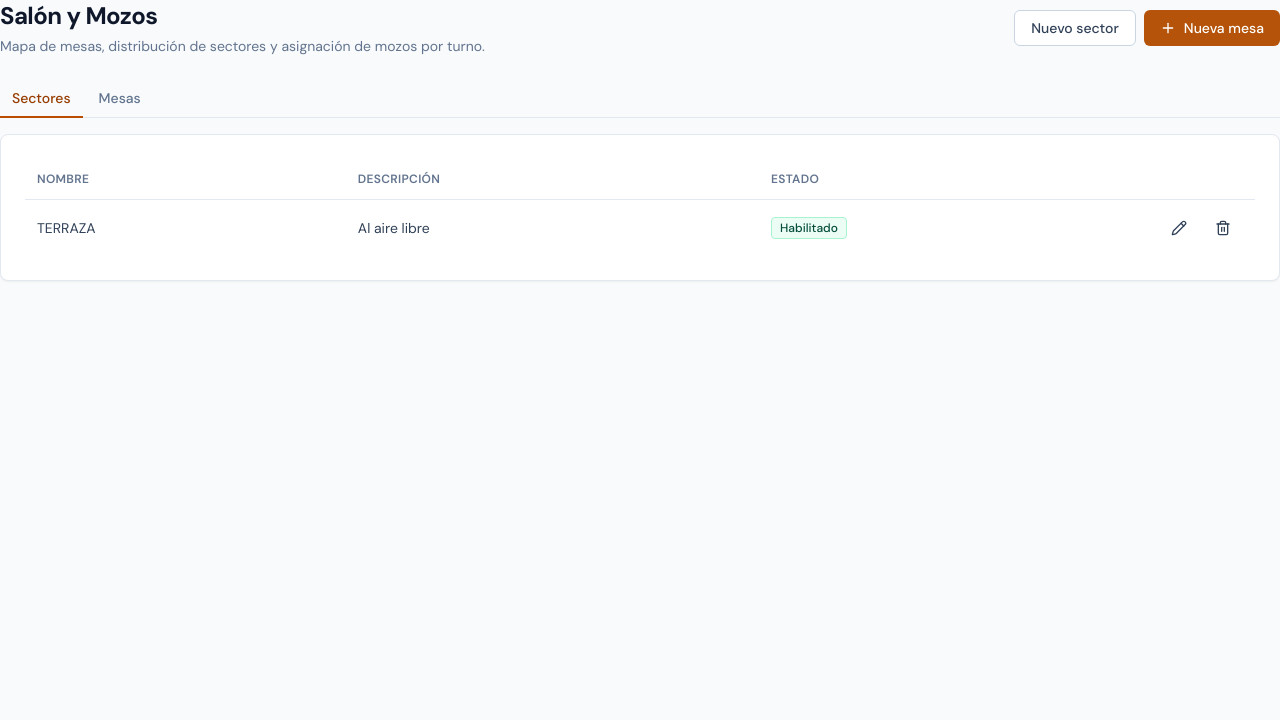
SalonPage: edición de sector › guarda la modificación, cierra el diálogo y recarga la tabla (CA 1 de #34)
Click the button named "Editar «Terraza»" at (1179, 228), box 1159,212 -> 1199,244
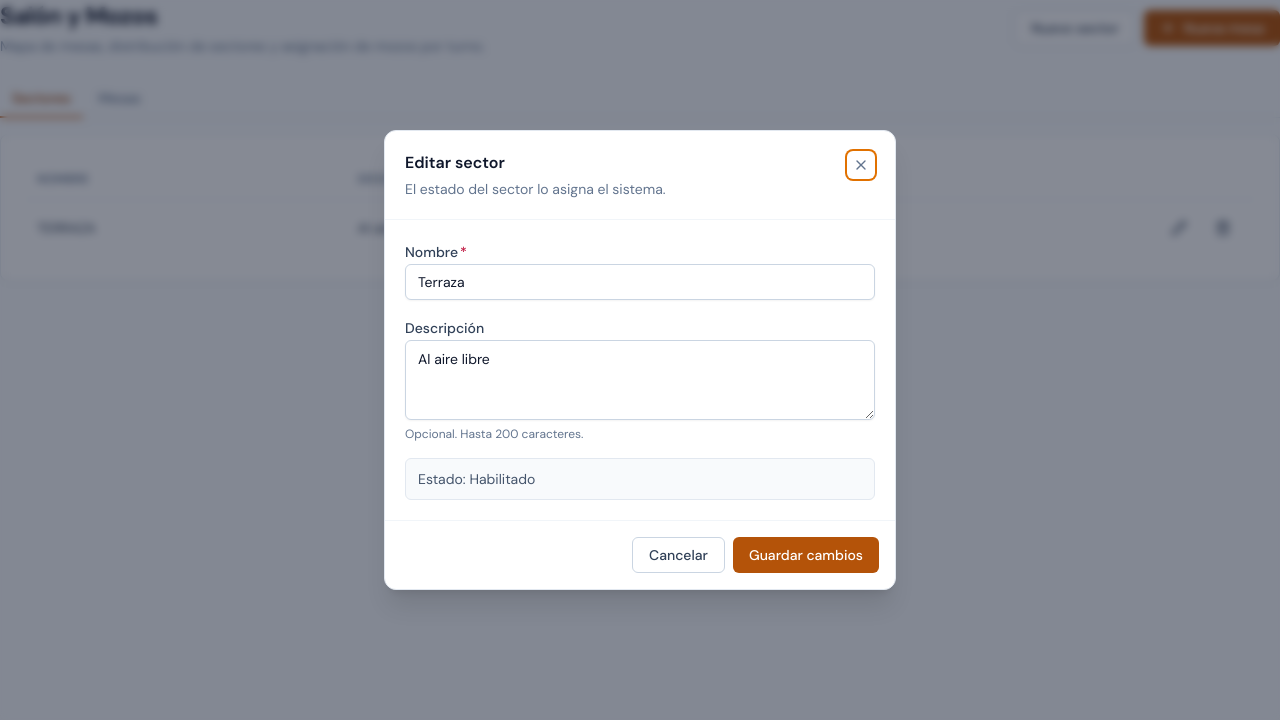
Check: the heading "Editar sector" is shown, box 405,152 -> 505,173
Replace the text in the field labelled "Nombre*" with "Salón central" at (640, 282), box 405,264 -> 875,300
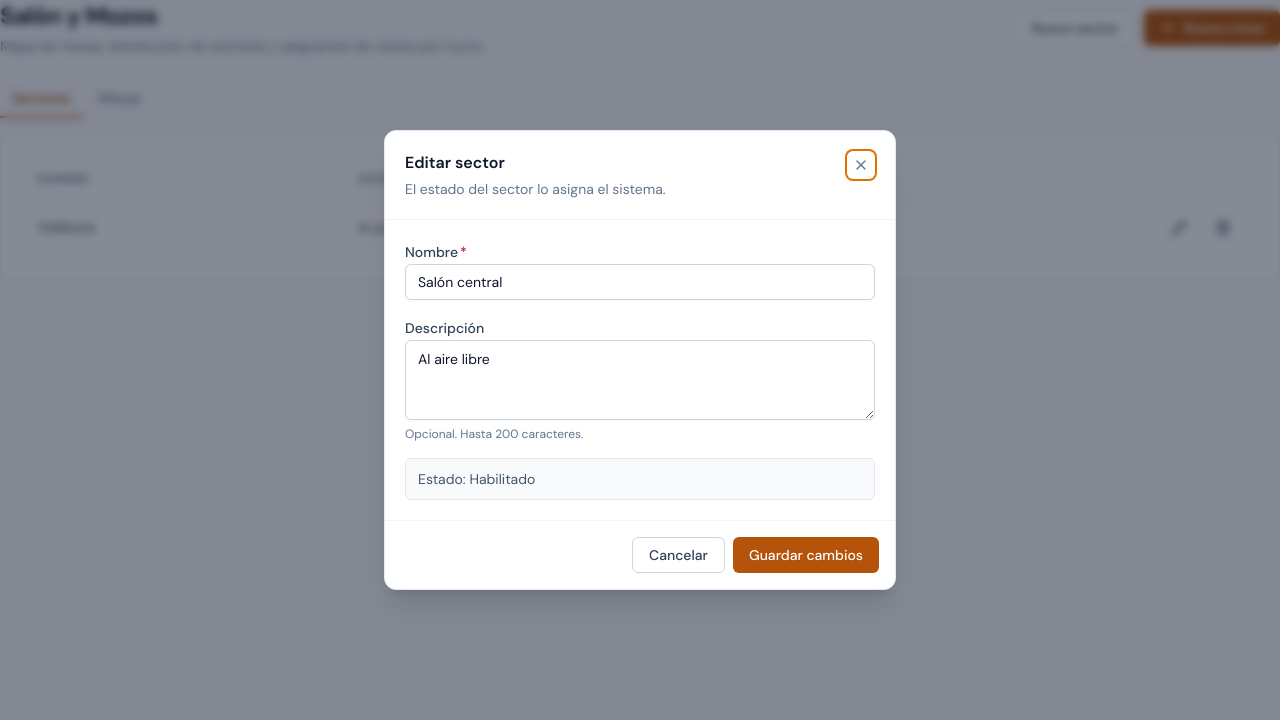
Replace the text in the text box labelled "Descripción" with "Planta alta" at (640, 380), box 405,340 -> 875,420
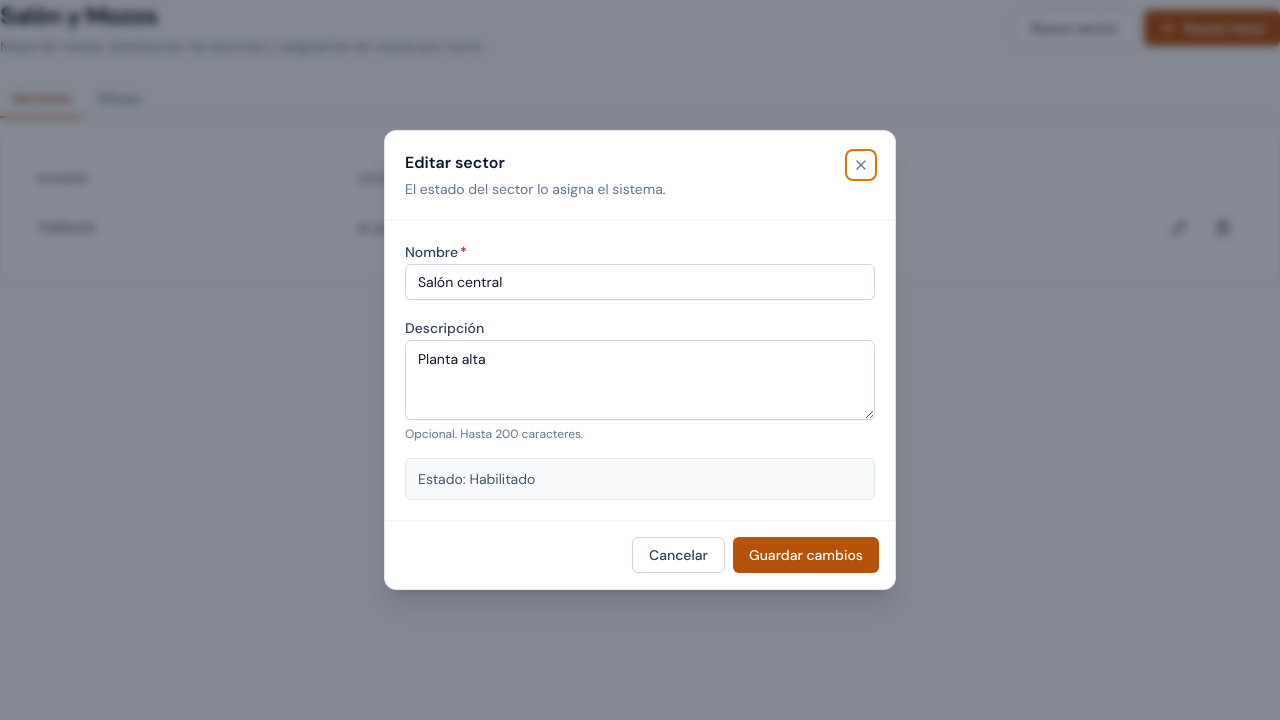
Click the button "Guardar cambios" at (806, 555), box 733,537 -> 879,573
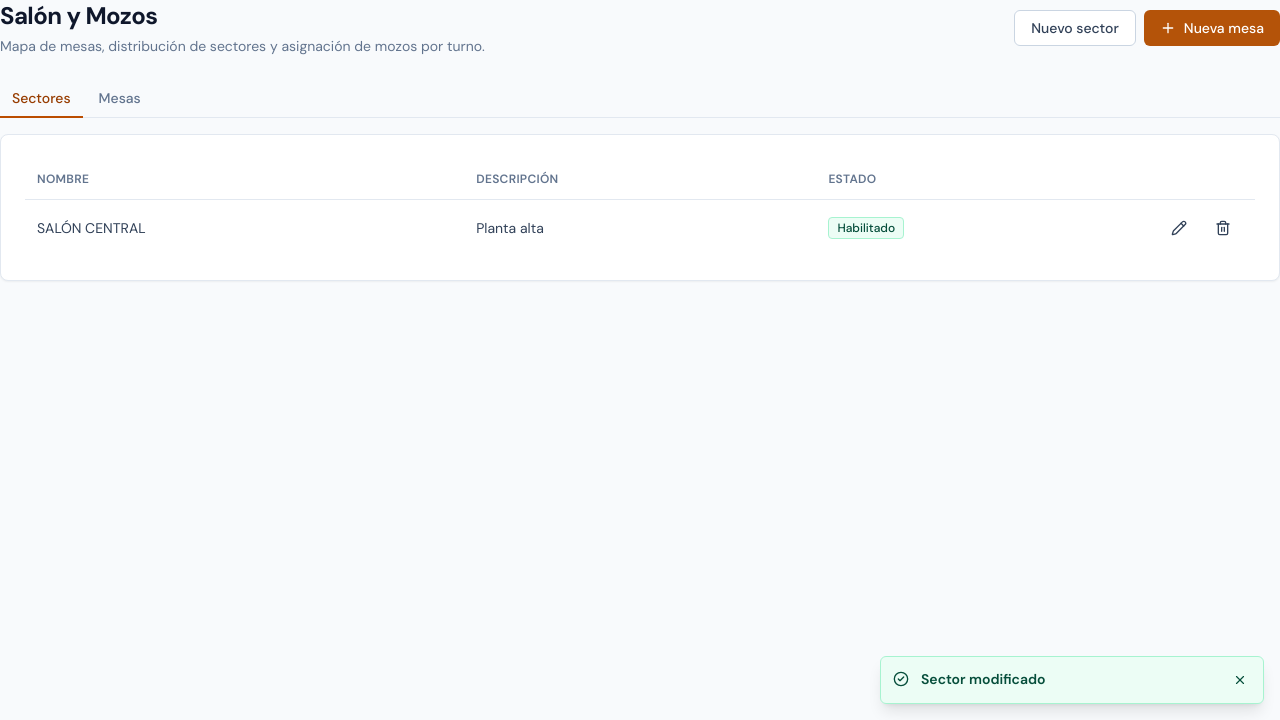
Check: the text "Sector modificado" is shown, box 921,670 -> 1046,688
Check: the dialog is gone
Check: the text "Salón central" is shown, box 37,218 -> 146,236
